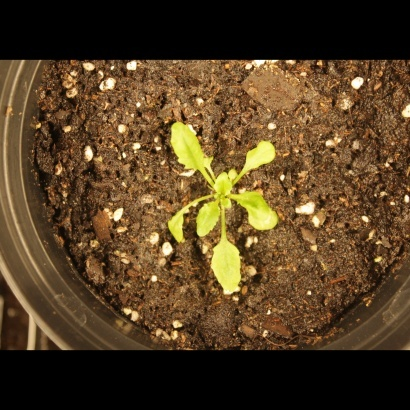leaf: (199, 238, 251, 301), (166, 112, 210, 179), (239, 184, 285, 240), (245, 131, 284, 178), (154, 203, 190, 246), (195, 192, 222, 242), (211, 166, 241, 209)
